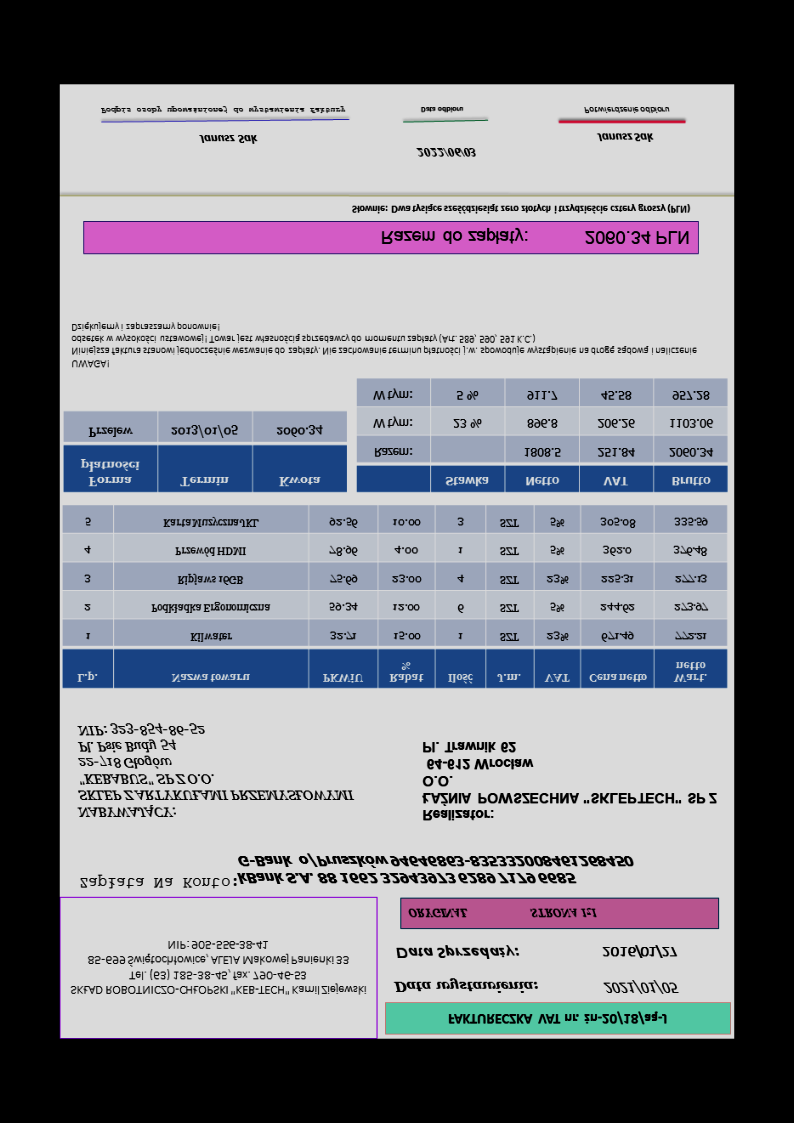Table: (60, 502, 728, 691), (355, 376, 730, 494), (62, 411, 347, 495)
TextBox: (70, 321, 700, 371), (76, 719, 357, 821), (419, 735, 722, 822), (68, 933, 370, 1000), (236, 853, 637, 885), (379, 227, 690, 247), (349, 202, 694, 216), (445, 1009, 669, 1029), (392, 973, 538, 996), (406, 904, 600, 921), (77, 874, 239, 891), (97, 104, 347, 115), (392, 942, 521, 961), (602, 977, 680, 997), (600, 944, 678, 961), (196, 130, 259, 148), (414, 145, 479, 159), (581, 105, 672, 115), (594, 131, 655, 144), (417, 104, 467, 115)
